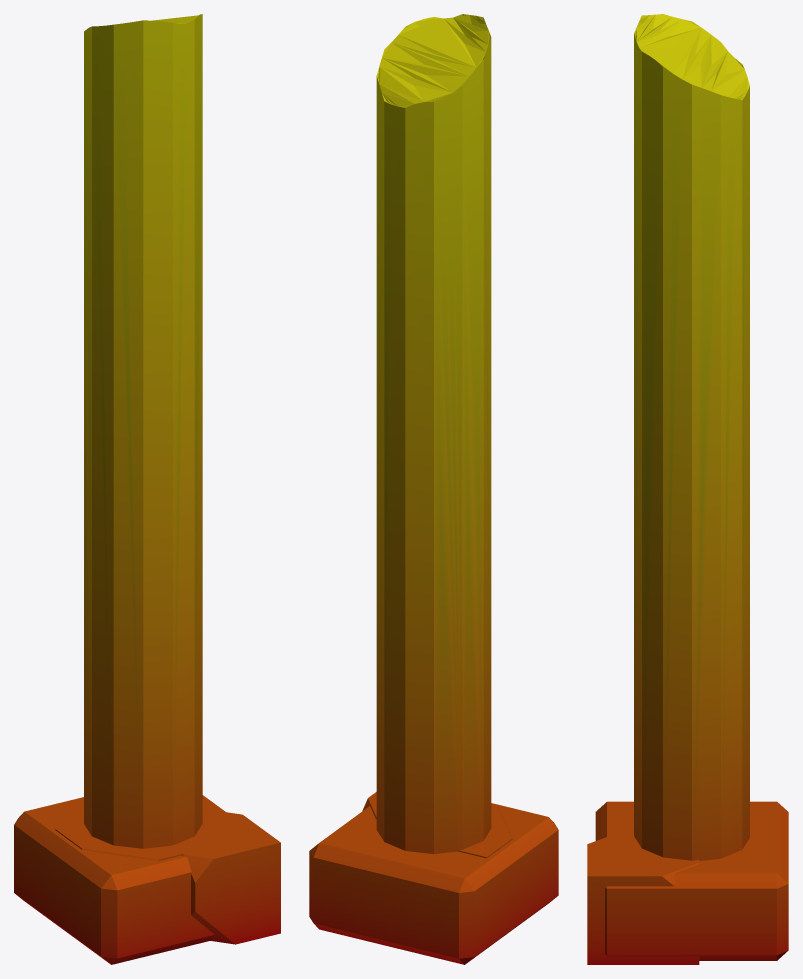
File: lamp_post_broken.glb
3 views of the same model, side by side, from view 1: azimuth 30°, elevation 25°; view 2: azimuth 150°, elevation 25°; view 3: azimuth 270°, elevation 25° (orthographic). The views are drawn at different scales.
Visible parts, largest first — view 1: lamp_post_broken; view 2: lamp_post_broken; view 3: lamp_post_broken.
Part boxes in pixels (box(x1,y1,x2,y2)): lamp_post_broken: box(14, 14, 280, 964); lamp_post_broken: box(309, 14, 558, 964); lamp_post_broken: box(587, 14, 788, 964).
Size of what is drawn, in the model's own units: 0.4 by 2.05 by 0.417.
